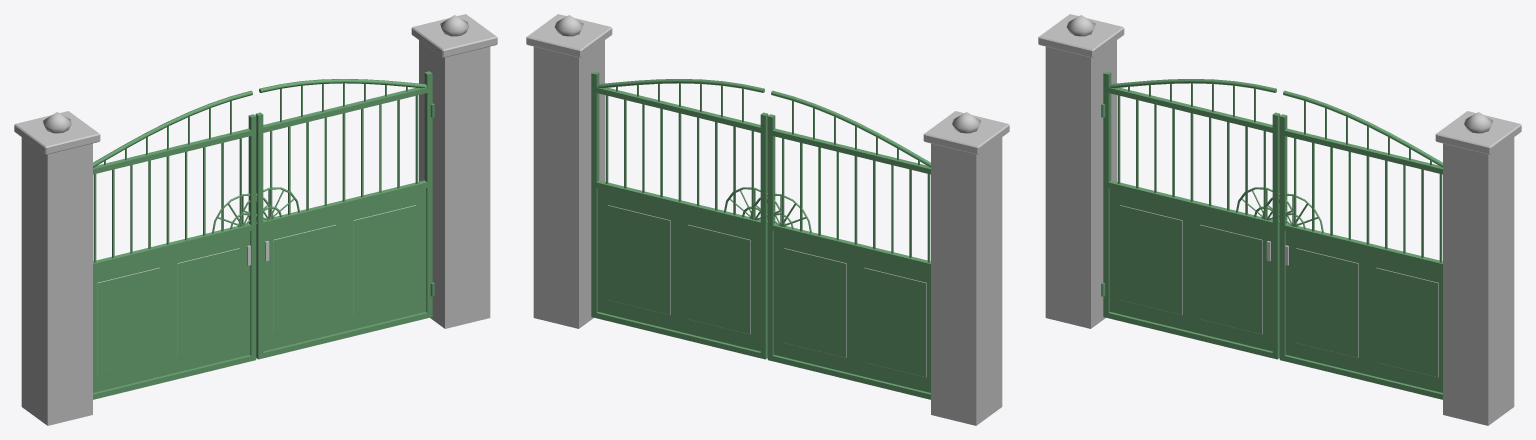
Rendered from gate_havli_green.glb.
3 renders of one model, left to right at view 1: azimuth 30°, elevation 25°; view 2: azimuth 150°, elevation 25°; view 3: azimuth 330°, elevation 25°, orthographic.
Parts seen in each view (by area): view 1: gate_havli_green; view 2: gate_havli_green; view 3: gate_havli_green.
Part boxes in pixels (x1,y1,x2,y2): gate_havli_green: (14, 14, 497, 425); gate_havli_green: (526, 14, 1009, 425); gate_havli_green: (1038, 14, 1521, 425).
Size of the model in its own units: 4.5 by 2.84 by 0.55.
